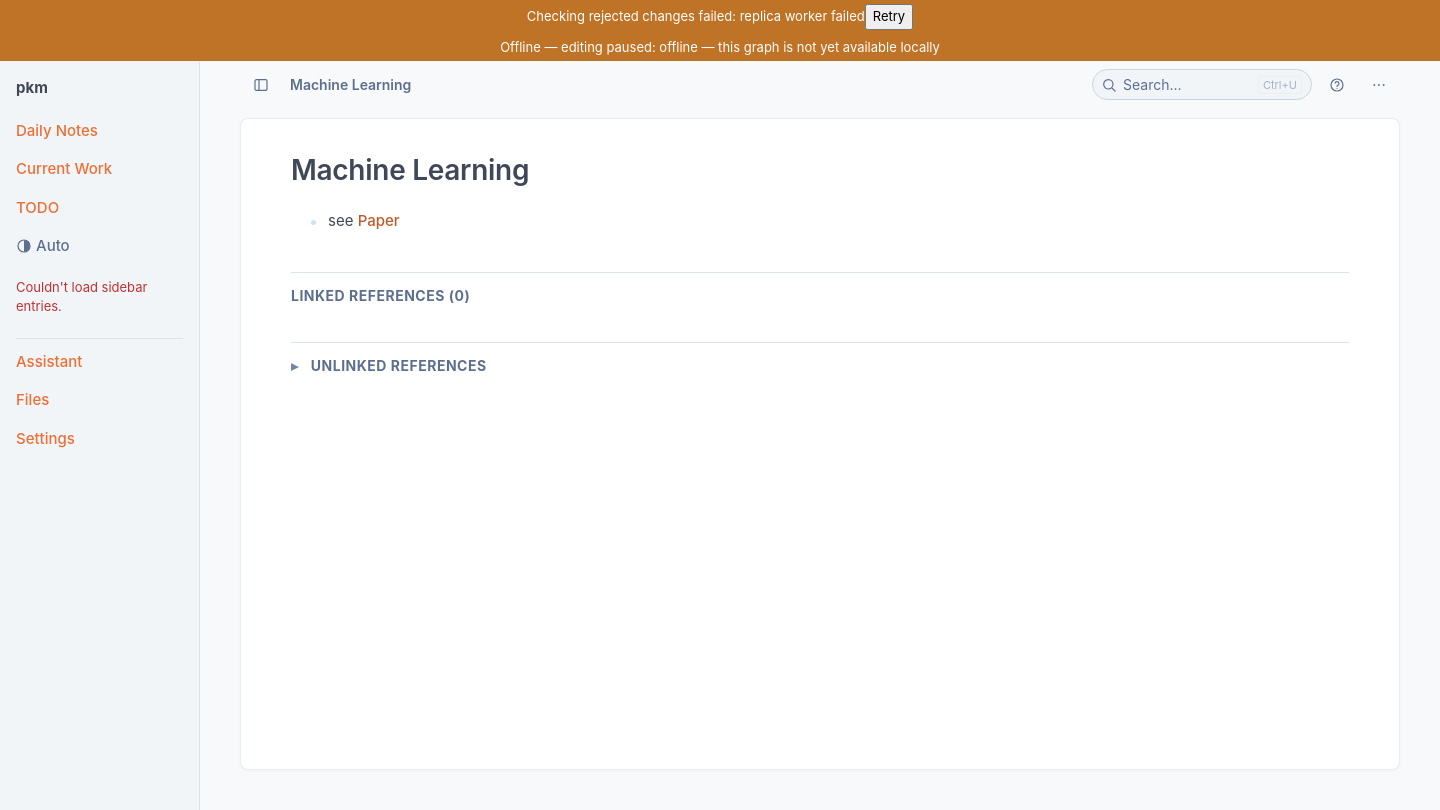
cmd-/ hides the stacked right sidebar; pressing it again shows it
Click the link "Paper".
click(379, 220)  # box [358, 211, 400, 230]
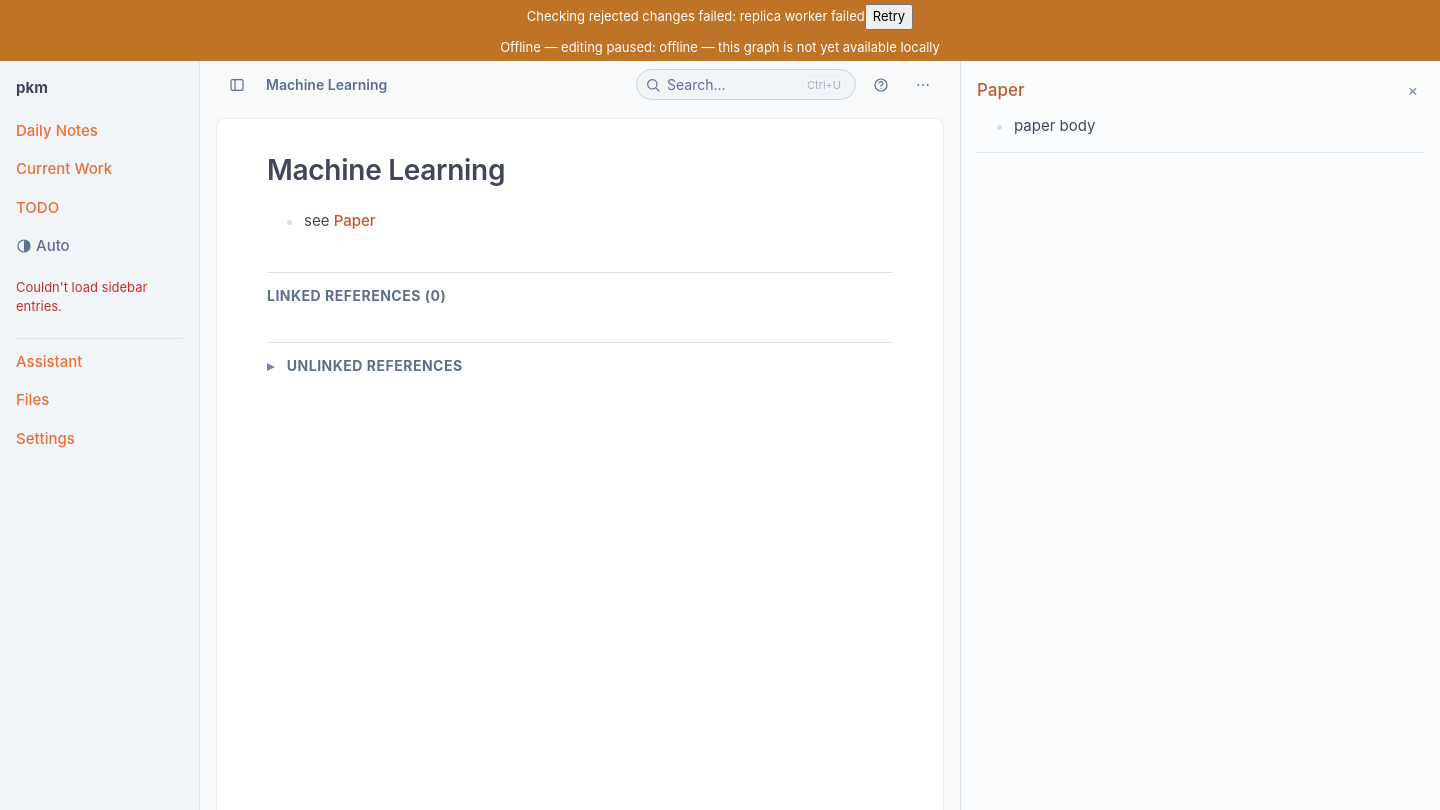
Result: the text "paper body" is shown at [1014, 116, 1095, 134]
Press /
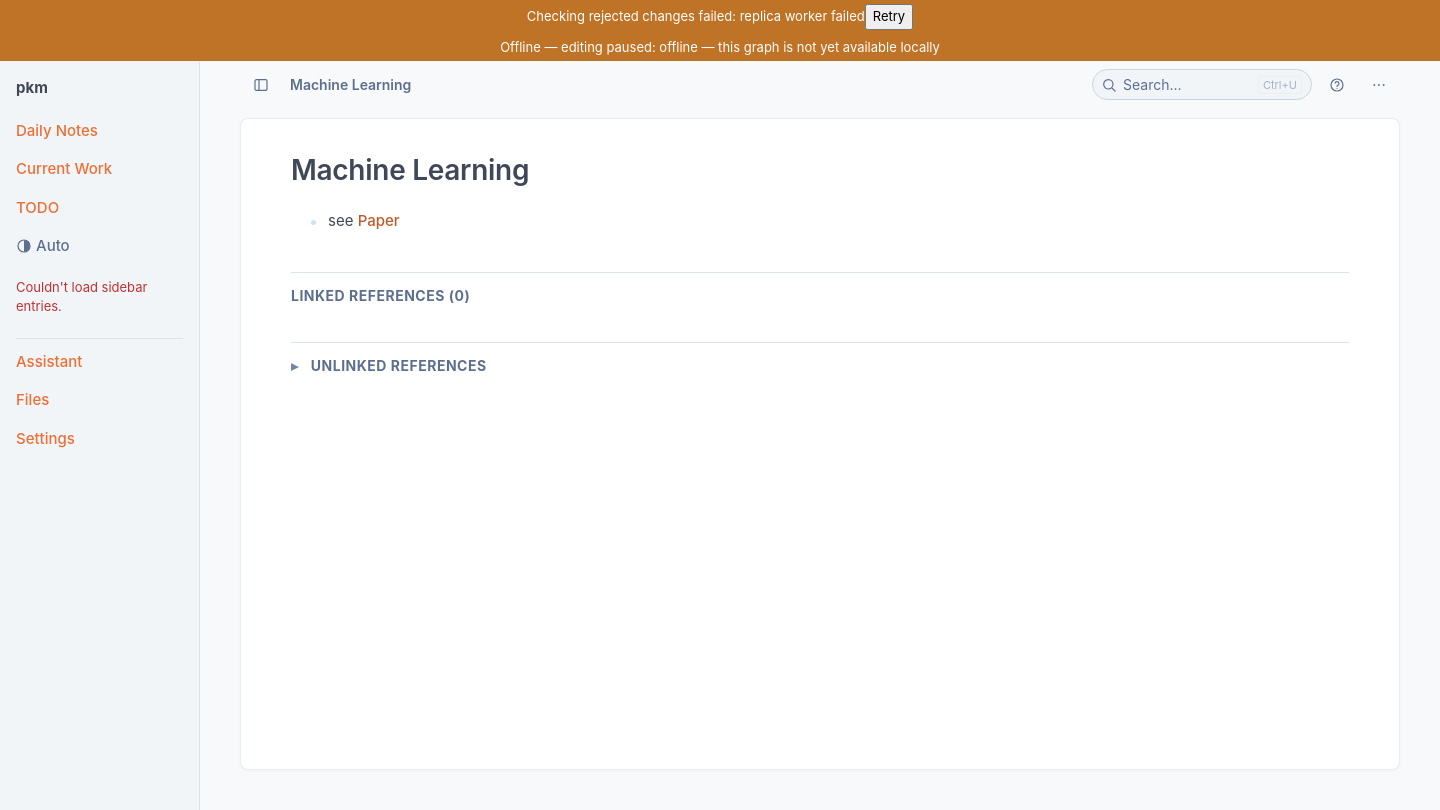
Result: the text "paper body" is gone
Press /
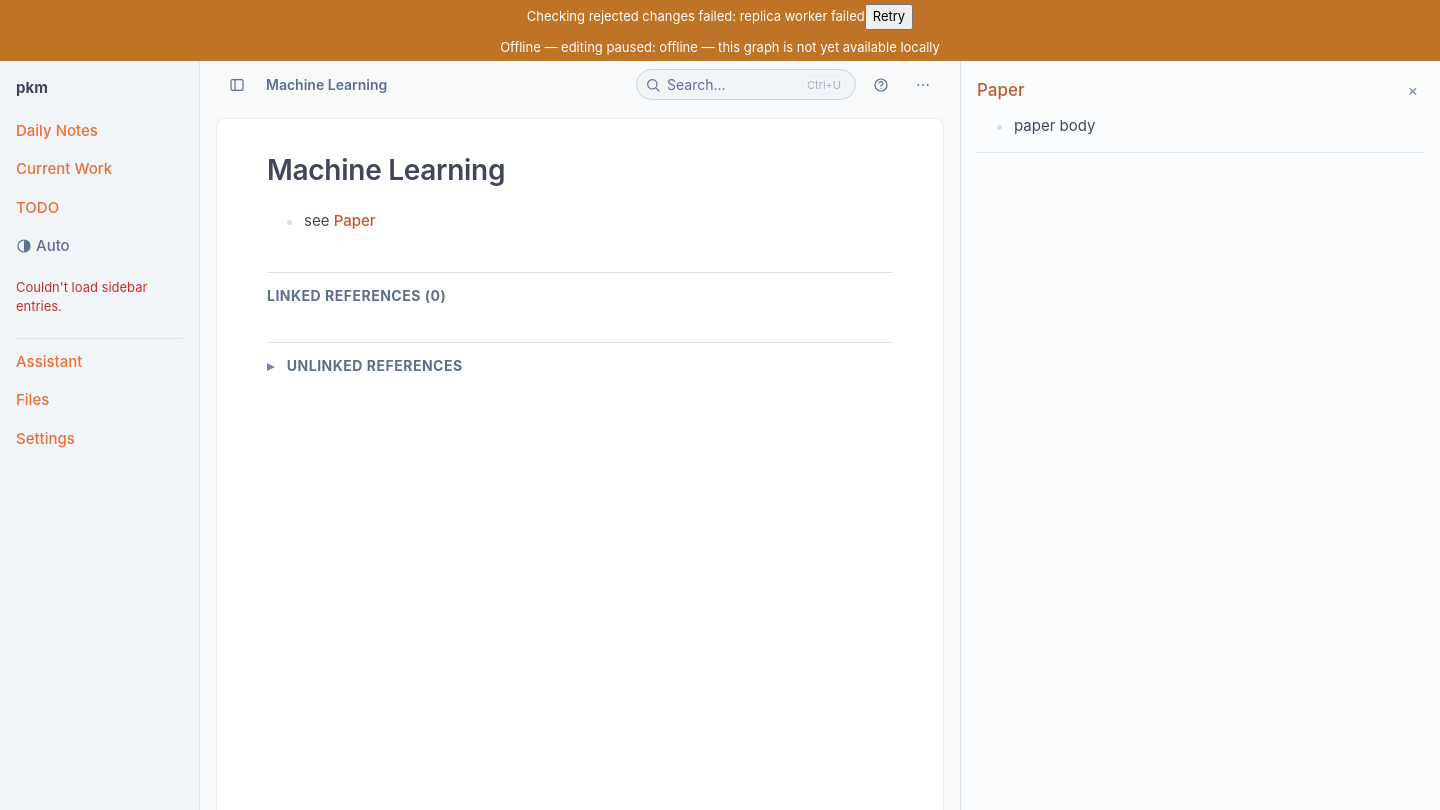
Result: the text "paper body" is shown at [1014, 116, 1095, 134]
